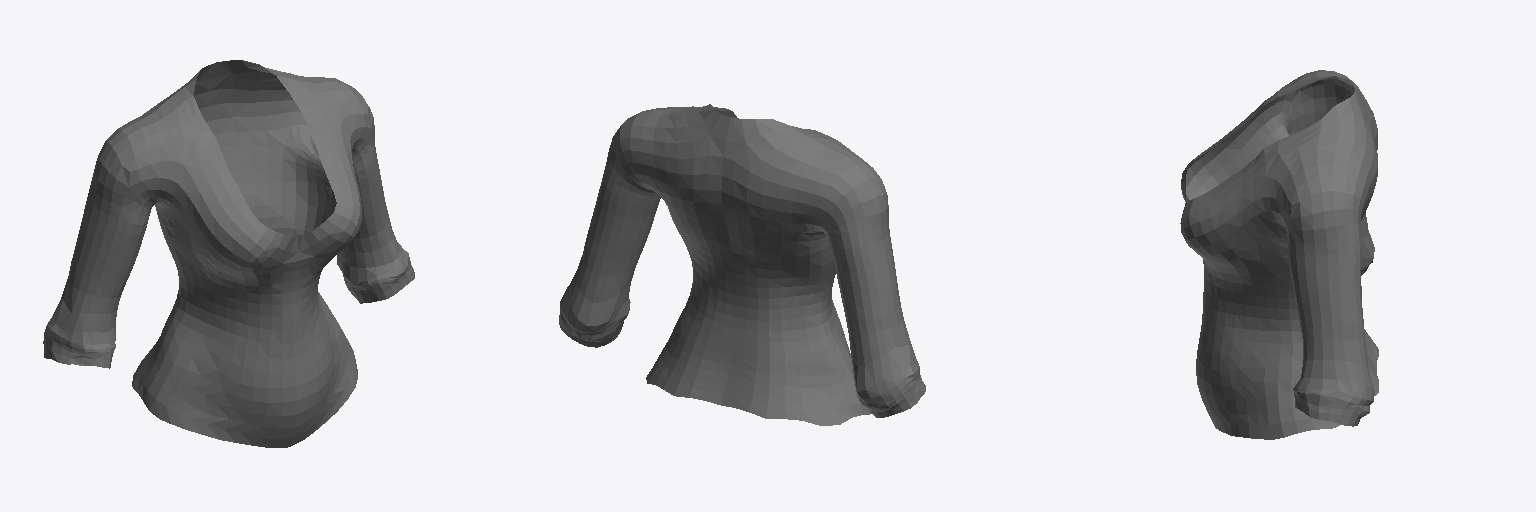
The model's file is LowPoly_Bibliotecaria_Camisa.obj.
3 renders of one model, left to right at view 1: azimuth 30°, elevation 25°; view 2: azimuth 150°, elevation 25°; view 3: azimuth 270°, elevation 25°, orthographic.
Parts seen in each view (by area): view 1: LowPoly_Bibliotecaria_Camisa; view 2: LowPoly_Bibliotecaria_Camisa; view 3: LowPoly_Bibliotecaria_Camisa.
Part boxes in pixels (bbox=[...]): LowPoly_Bibliotecaria_Camisa: bbox=[43, 60, 414, 447]; LowPoly_Bibliotecaria_Camisa: bbox=[559, 104, 925, 425]; LowPoly_Bibliotecaria_Camisa: bbox=[1180, 70, 1378, 439].
Size of the model in its own units: 49.85 by 44.26 by 23.93.